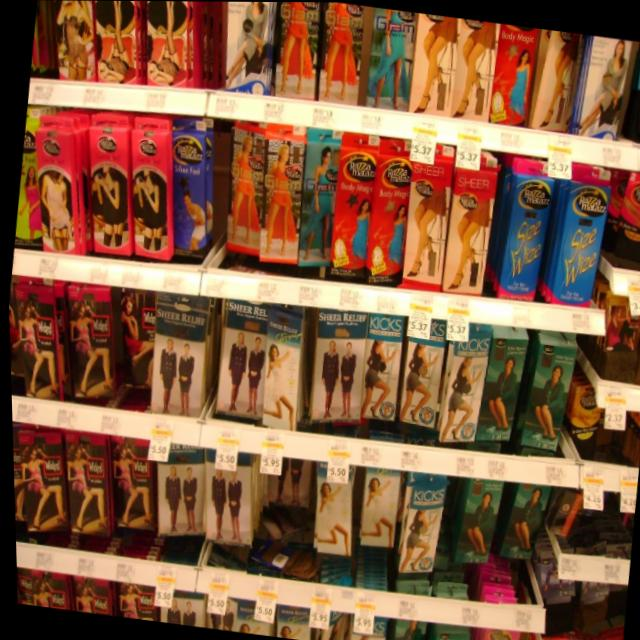q67: (20, 106, 95, 256)
